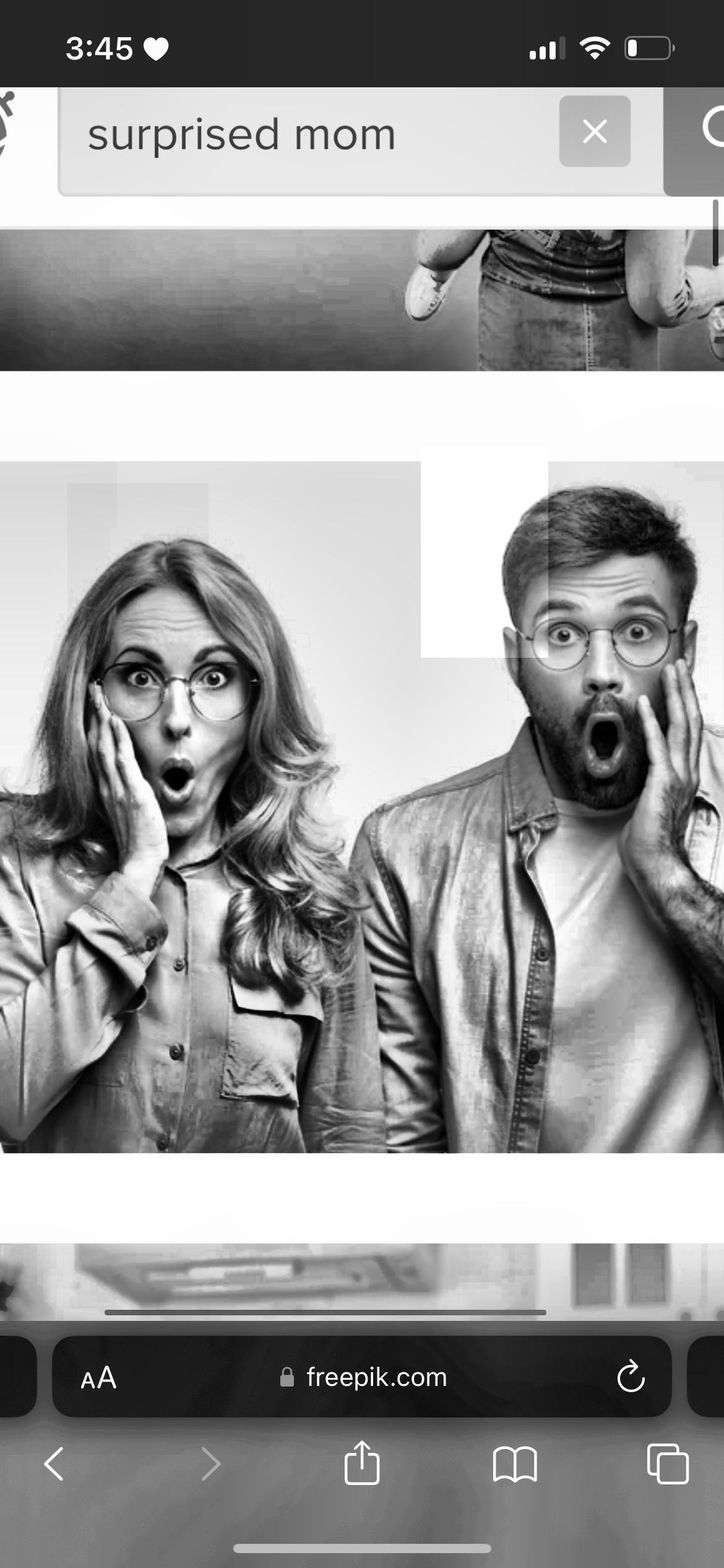surprised: (83, 597, 258, 833)
